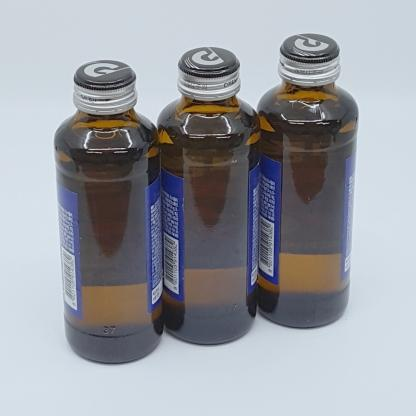---------------150ML: (53, 60, 163, 364), (156, 47, 260, 345), (256, 34, 359, 328)
